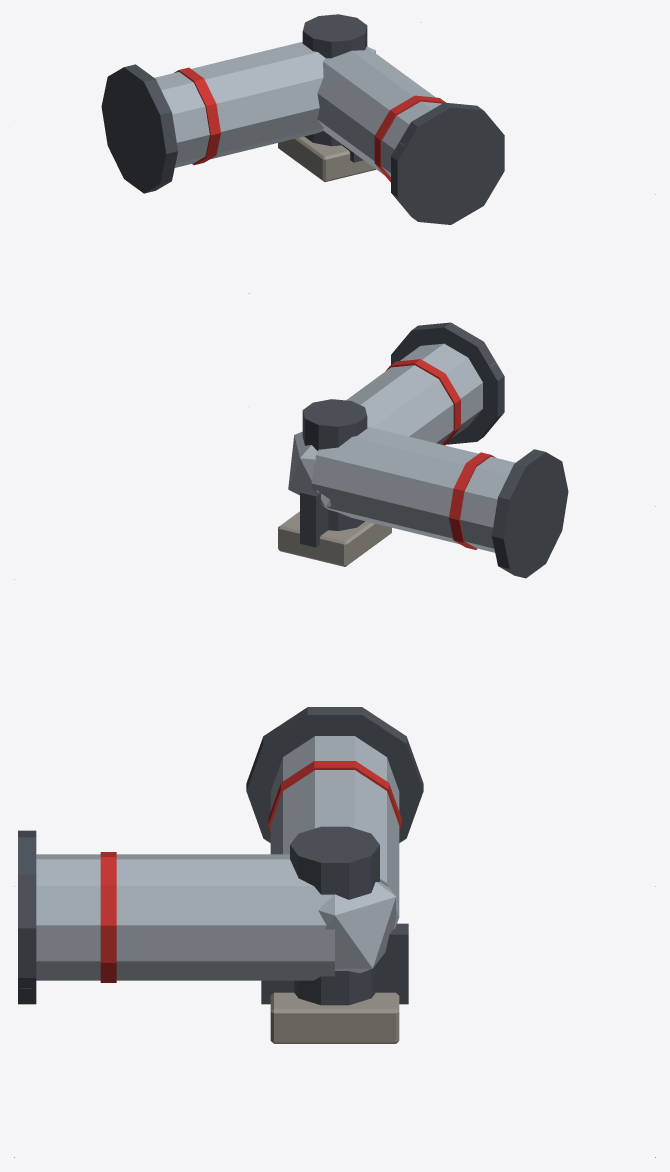
Rendered from tuyau_coude_t3.glb.
3 views of the same model, one above another, from view 1: azimuth 30°, elevation 25°; view 2: azimuth 150°, elevation 25°; view 3: azimuth 270°, elevation 25° (orthographic). The views are drawn at different scales.
Visible parts, largest first — view 1: pieces_inox.014, pieces_acier_sombre.044, pieces_beton.044, pieces_rive_t3.014; view 2: pieces_inox.014, pieces_acier_sombre.044, pieces_beton.044, pieces_rive_t3.014; view 3: pieces_inox.014, pieces_acier_sombre.044, pieces_beton.044, pieces_rive_t3.014.
Part boxes in pixels (left/top/right/bottom): pieces_inox.014: left=154, top=41, right=441, bottom=176; pieces_acier_sombre.044: left=101, top=14, right=504, bottom=224; pieces_beton.044: left=278, top=136, right=375, bottom=181; pieces_rive_t3.014: left=174, top=67, right=445, bottom=181; pieces_inox.014: left=288, top=343, right=515, bottom=552; pieces_acier_sombre.044: left=300, top=322, right=568, bottom=578; pieces_beton.044: left=278, top=511, right=391, bottom=566; pieces_rive_t3.014: left=386, top=359, right=495, bottom=549; pieces_inox.014: left=36, top=736, right=399, bottom=980; pieces_acier_sombre.044: left=18, top=707, right=423, bottom=1005; pieces_beton.044: left=270, top=992, right=399, bottom=1043; pieces_rive_t3.014: left=100, top=761, right=401, bottom=982.
Size of the model in its own units: 1 by 0.318 by 1.
